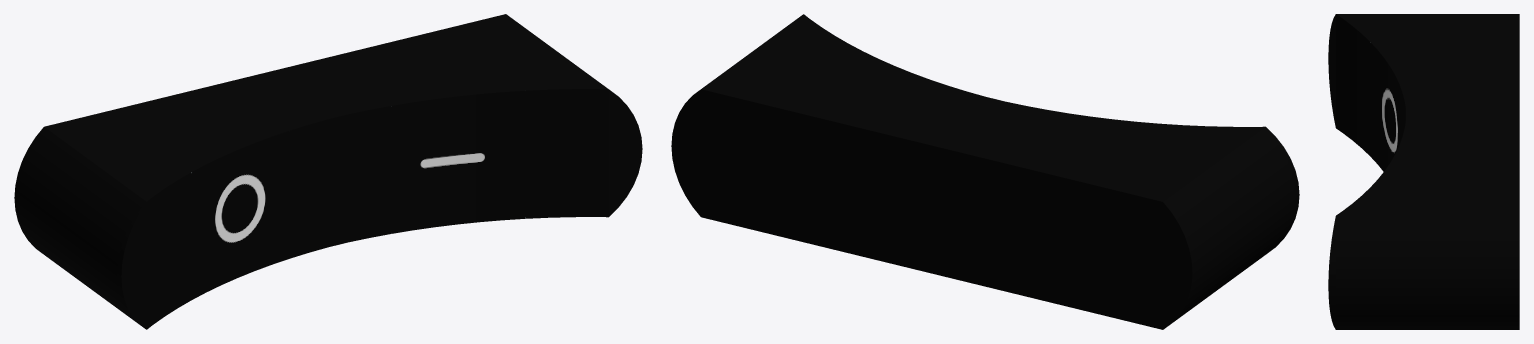
File: switch_toggle.fbx
3 renders of one model, left to right at view 1: azimuth 30°, elevation 25°; view 2: azimuth 150°, elevation 25°; view 3: azimuth 270°, elevation 25°, orthographic. The views are drawn at different scales.
Parts seen in each view (by area): view 1: G-Object.048; view 2: G-Object.048; view 3: G-Object.048.
Boxes of the visible parts, x1,y1,x2,y2 form: G-Object.048: (14, 14, 642, 329); G-Object.048: (671, 14, 1299, 329); G-Object.048: (1328, 14, 1519, 329).
Size of the model in its own units: 2.62 by 0.614 by 0.93.
Materials: 3 (2 with a texture image).
